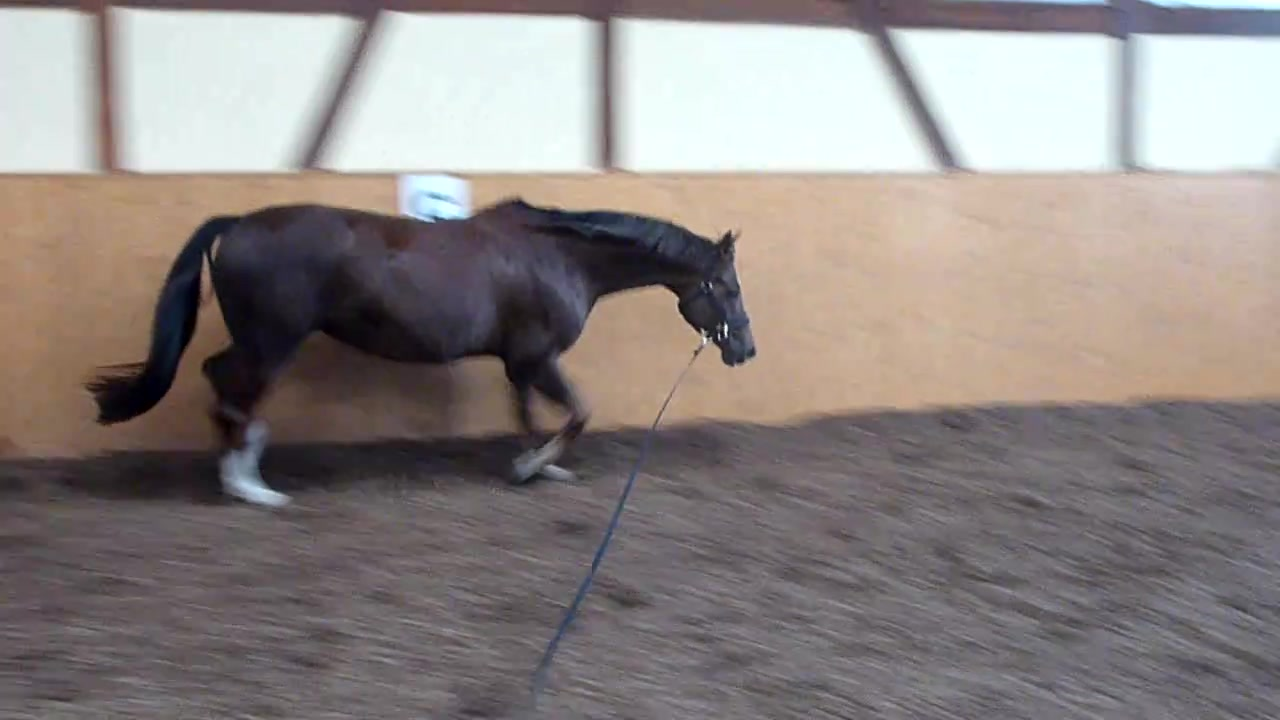horse: (109, 207, 772, 526)
